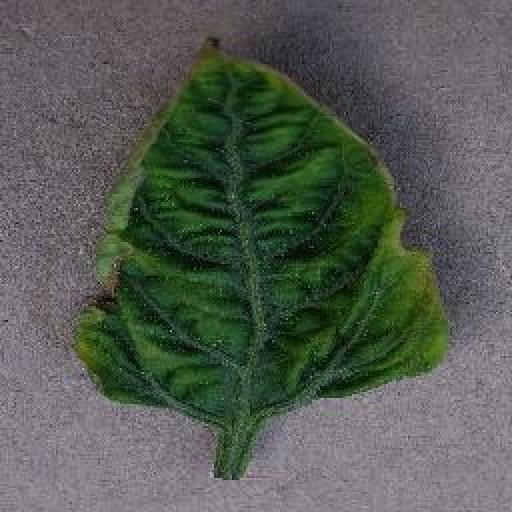disease_tomato: (73, 33, 451, 423)
